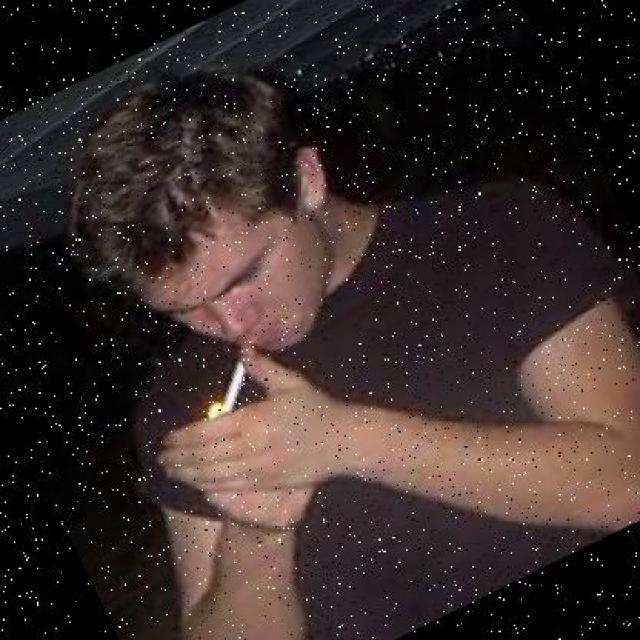fire: (178, 385, 234, 437)
